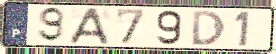1: (233, 10, 251, 48)
7: (115, 8, 147, 46)
9: (35, 6, 66, 45), (156, 10, 183, 46)
A: (67, 7, 111, 45)
D: (191, 10, 227, 47)
